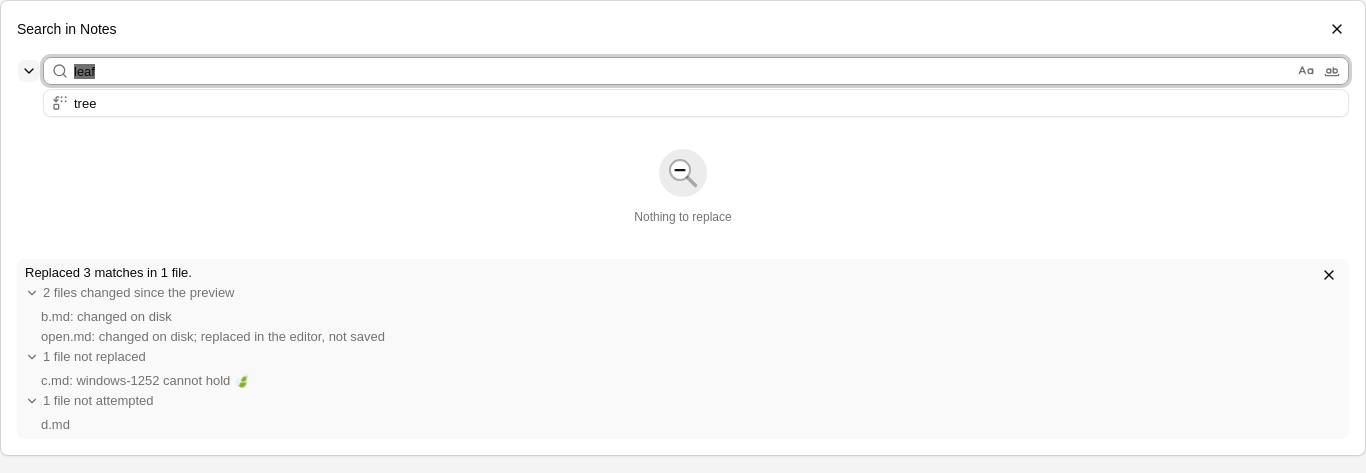
Test: folder search panel, replacing › reports what an Apply wrote and why it left files alone, until dismissed
Expected: the message reads "Replaced 3 matches in 1 file.", [25,265,192,280]
Expected: the list with test id "folder-replace-stale" shows "b.md: changed on disk", [41,309,172,324]
Hover over the list item "c.md: windows-1252 cannot hold 🍃" at (146, 380), box [41,373,250,388]
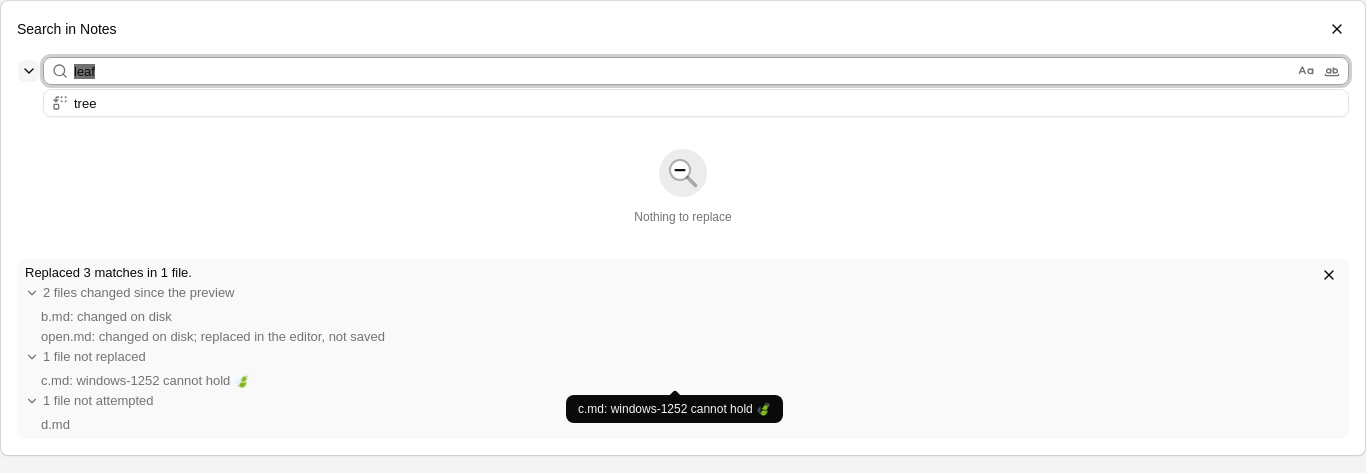
Now the 2nd element showing "c.md: windows-1252 cannot hold 🍃" is shown, box [566,395,783,423]
Hover over the list item "b.md: changed on disk" at (106, 316), box [41,309,172,324]
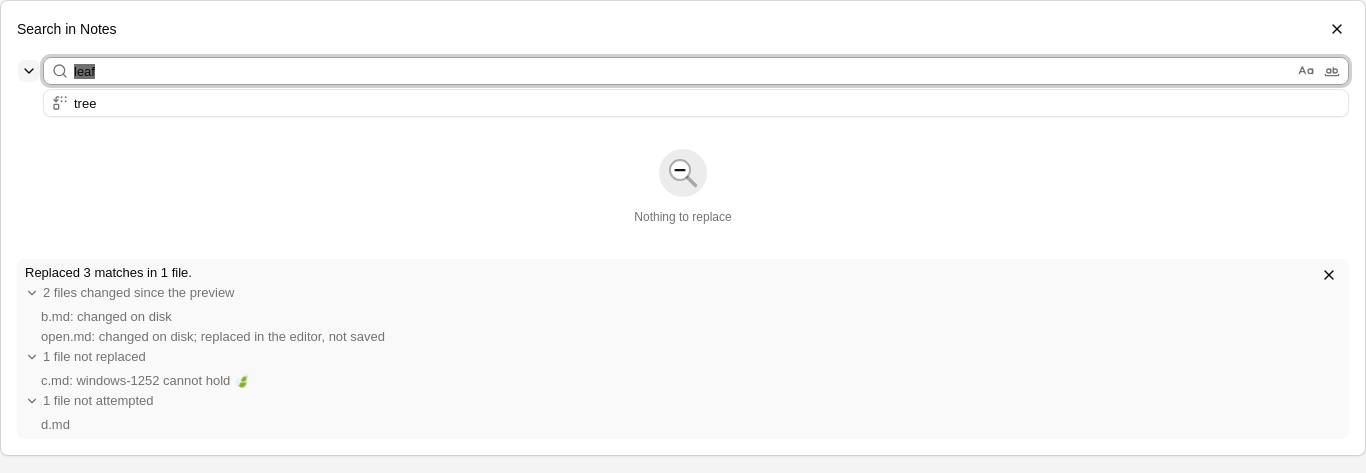
Hover over the button named "Dismiss report" at (1329, 275), box [1317,263,1341,287]
Expected: the text with test id "folder-search-status" reads "Nothing to replace", [634,210,732,224]
Click the button named "Dismiss report" at (1329, 275), box [1317,263,1341,287]
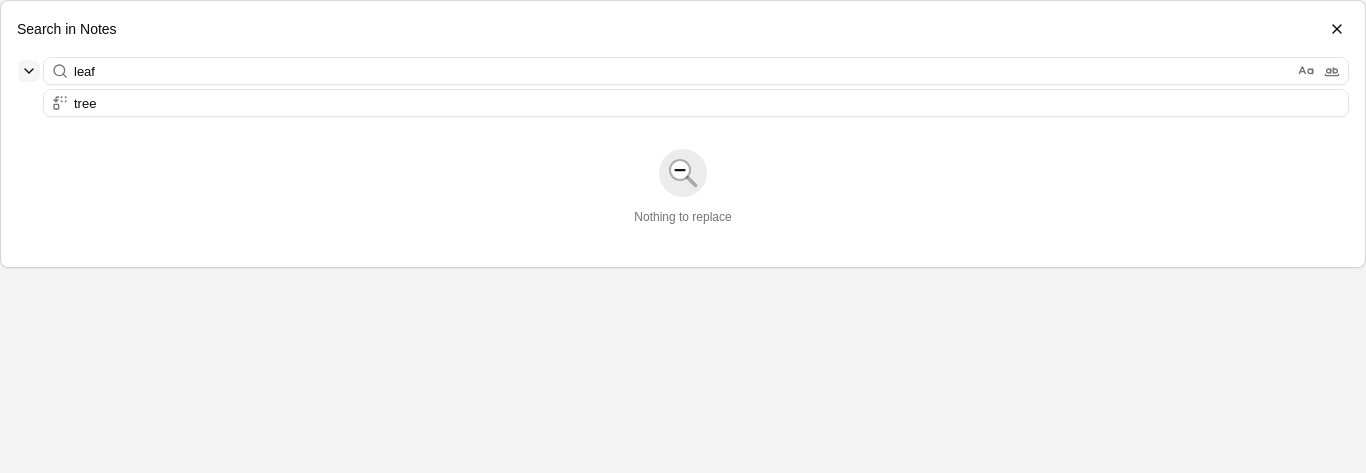
Now the element with test id "folder-replace-report" is gone
